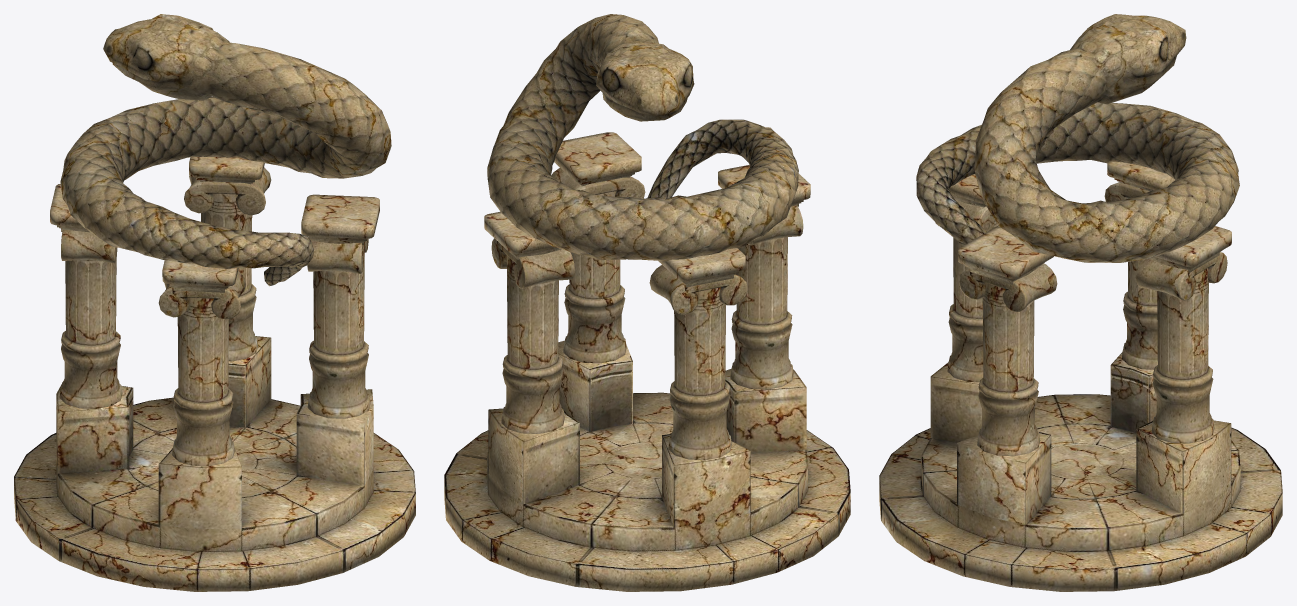
The model's file is snake.gltf.
3 renders of one model, left to right at view 1: azimuth 30°, elevation 25°; view 2: azimuth 150°, elevation 25°; view 3: azimuth 270°, elevation 25°, orthographic.
Visible parts, largest first — view 1: stone, snakelp; view 2: stone, snakelp; view 3: stone, snakelp.
Part boxes in pixels (x1,y1,x2,y2): stone: (14, 156, 415, 591); snakelp: (60, 14, 391, 286); stone: (444, 132, 850, 591); snakelp: (487, 14, 798, 261); stone: (879, 161, 1282, 591); snakelp: (916, 14, 1239, 262).
Bounding box in the file's own units: 7.15 × 9.24 × 7.15.
Materials: 2 (2 with a texture image).
